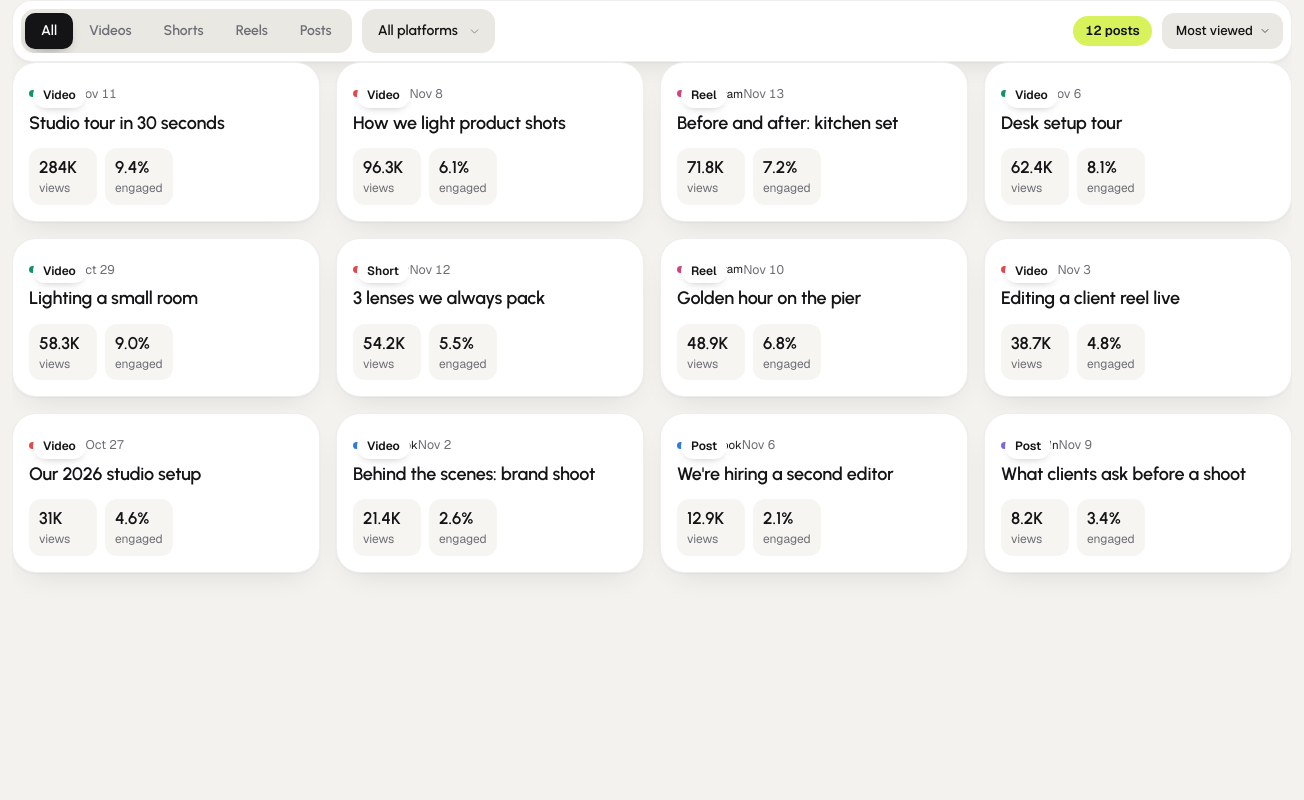
Scenario: ContentLibrary › filters by format
This screenshot has width=1304, height=800.
Click the button "Reels" at (252, 31), box [220,13,284,49]
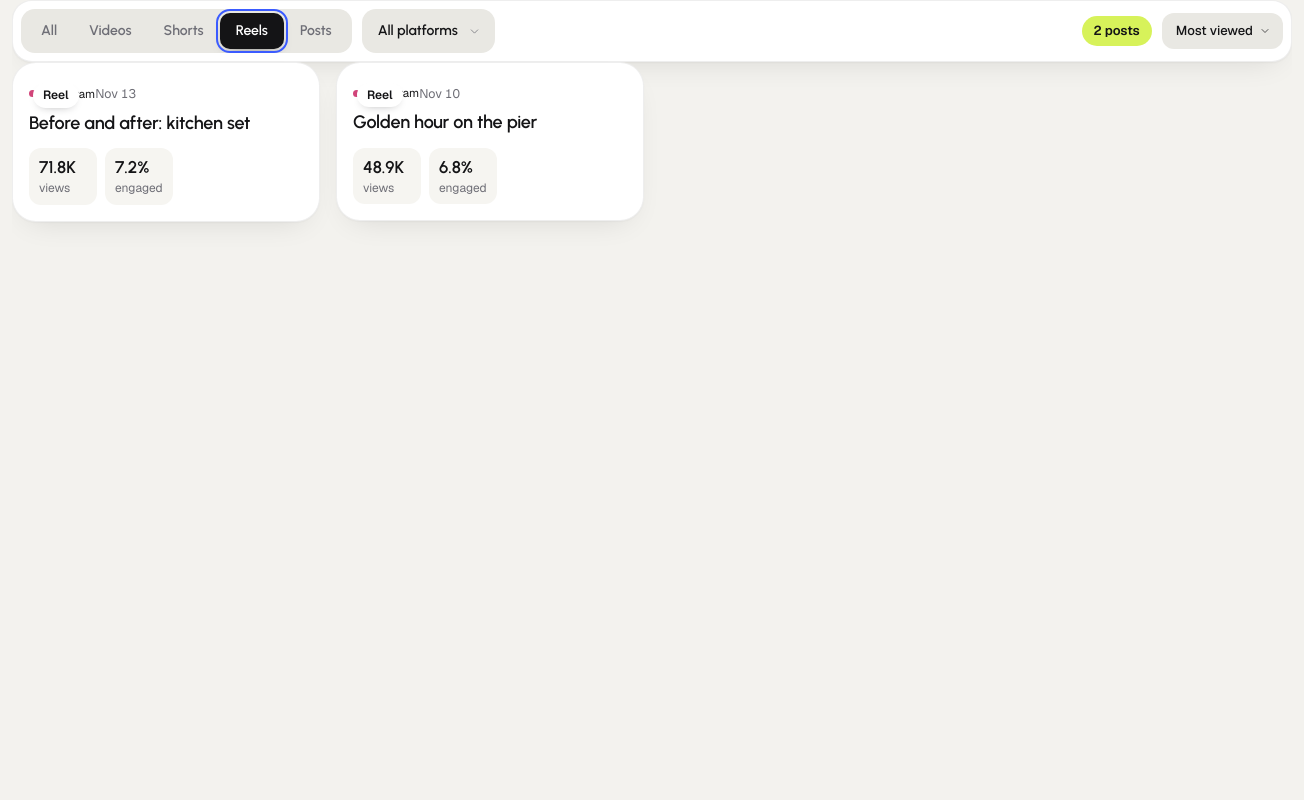
expect the text "2 posts" is shown: met, box [1082,16,1152,46]
expect the number of list items is 2: met, box [12,62,320,222]; [336,62,644,222]
